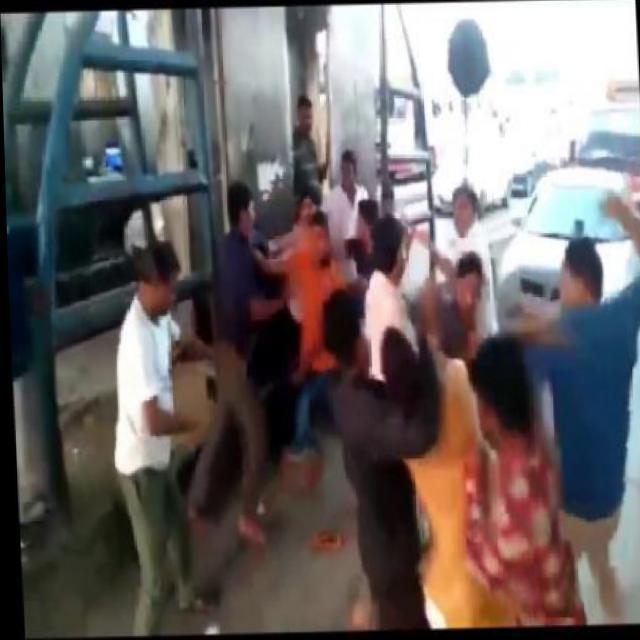fight: (486, 187, 640, 548)
